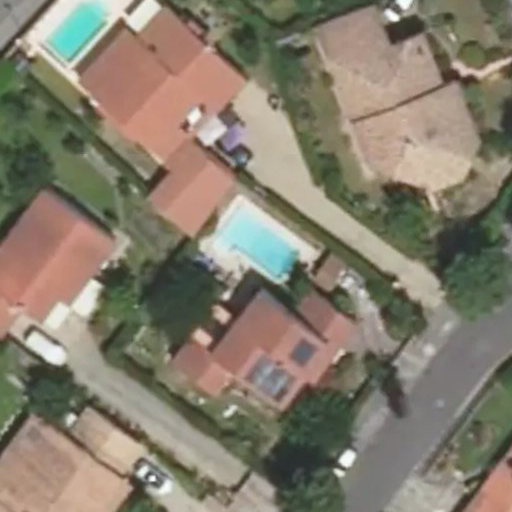pool: (211, 242, 300, 249)
